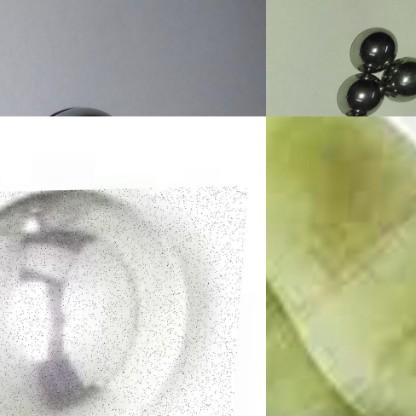ironball: (0, 188, 186, 415), (328, 65, 385, 112), (350, 23, 395, 70), (381, 51, 414, 108)
